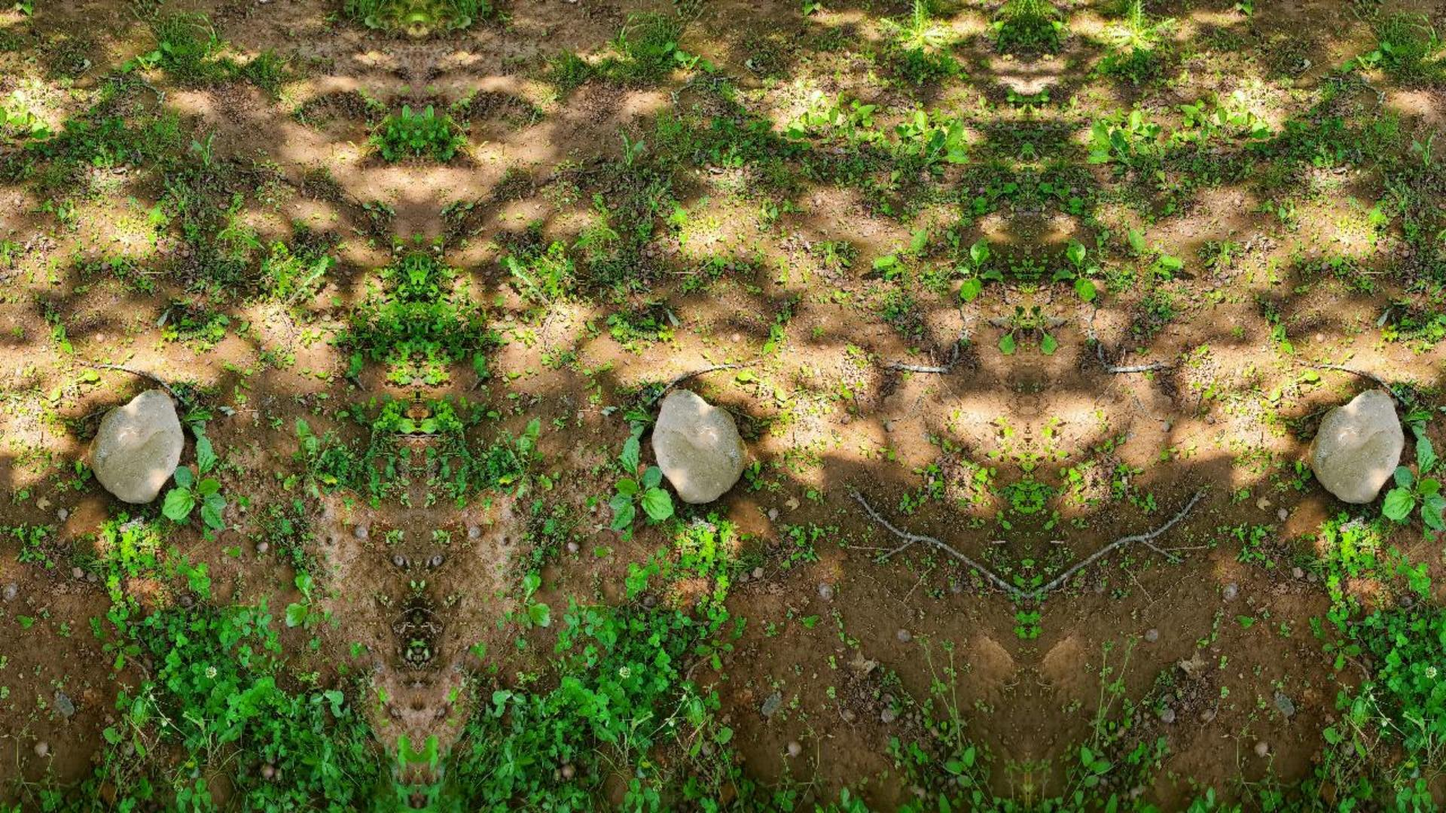rock: (92, 390, 183, 502), (652, 390, 742, 502), (1313, 390, 1403, 502)
